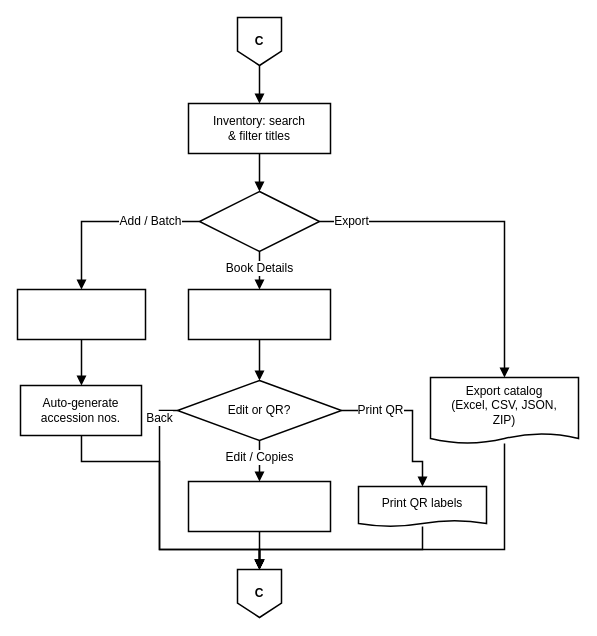
Some shapes in this 597 by 636 pixel diagram are drawn without their labels. Each missing label, with the centre of its shape:
"Action?" belongs at [259,221].
"Add via ISBN or batch import" belongs at [81,314].
"Edit book, copies or disposal" belongs at [259,506].
"View book, copies & queue" belongs at [259,314].
